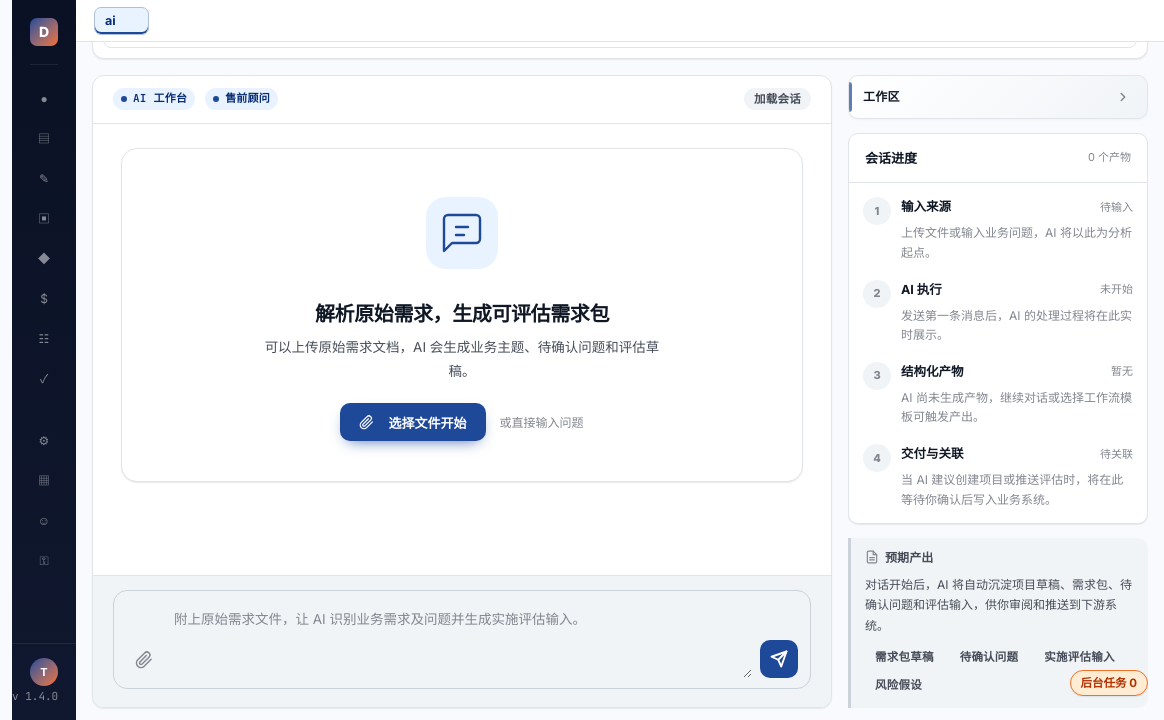
it: background-runs: G2 后台继续 › background-runs: 工作台提交成功后右下角角标 2s 内计数为 1（ISS-2026-08-10-002 用户症状复现）
The width and height of the screenshot is (1164, 720).
(page scrolled)
Check: the button "后台任务 0" is shown, box [1070,670,1148,696]
用户发问：createSession → submitRun 成功创建 run（异步开关开）
Type "帮我评估这个项目" into the text box named "AI 工作台输入" at (461, 640), box [170,602,752,678]
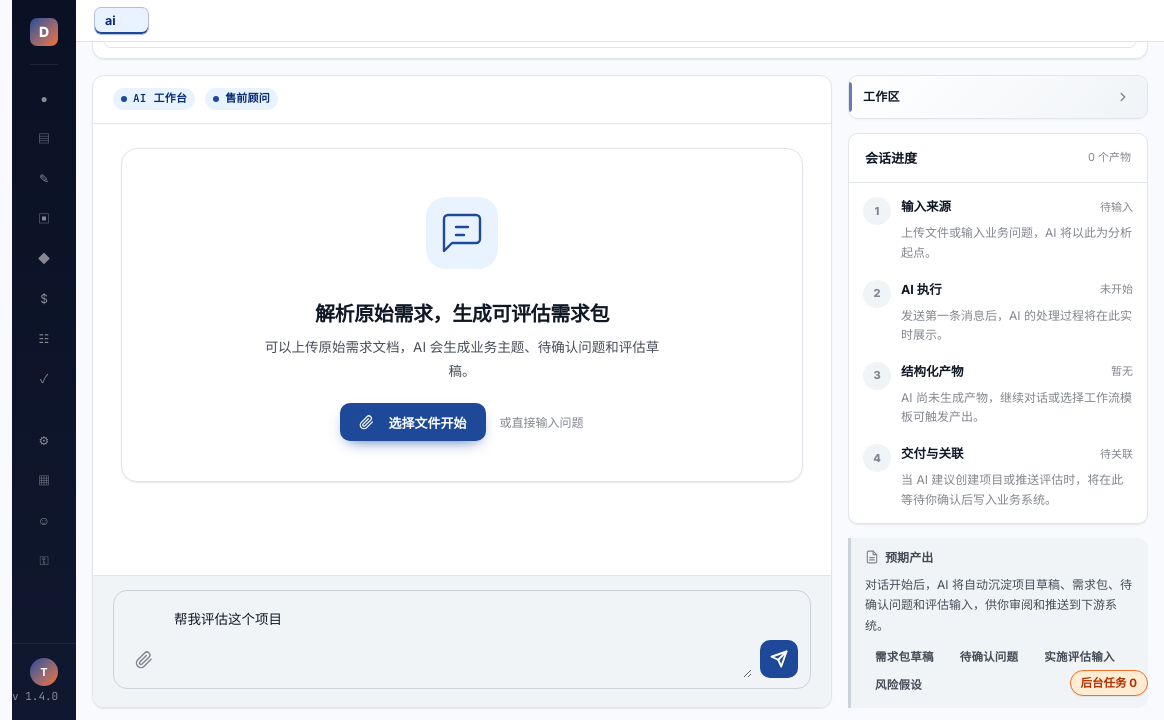
Click the button named "发送消息" at (779, 659), box [760,640,798,678]
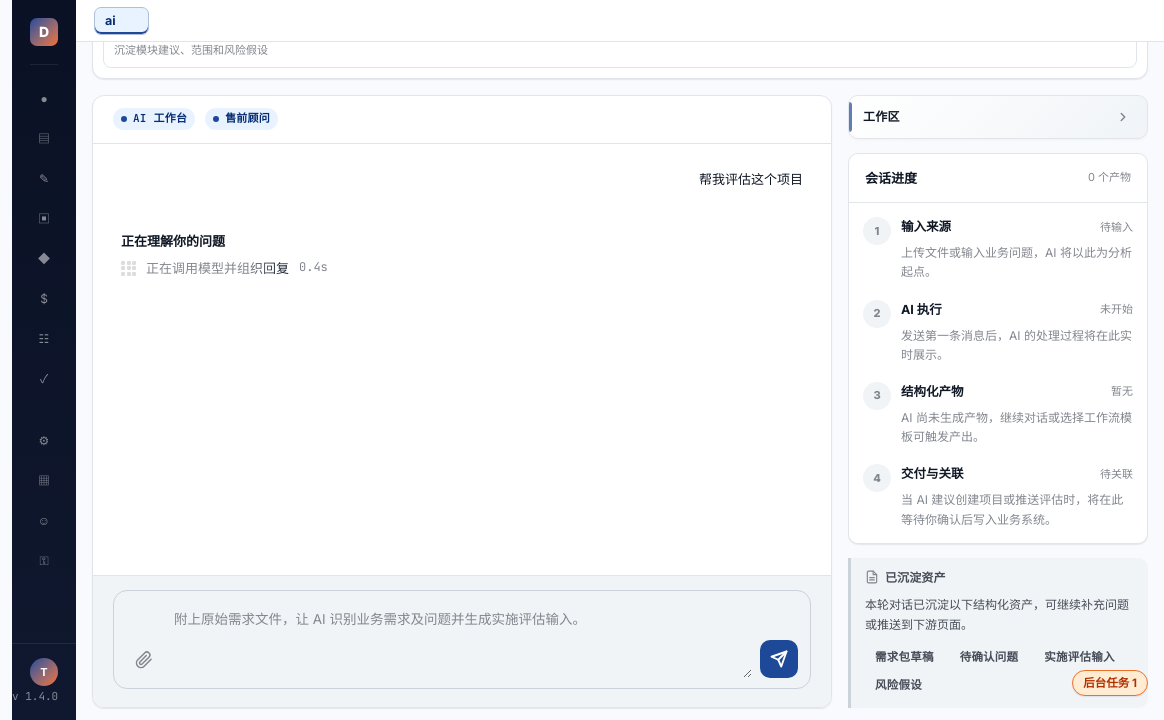
Check: the button "后台任务 1" is shown, box [1072,670,1148,696]
